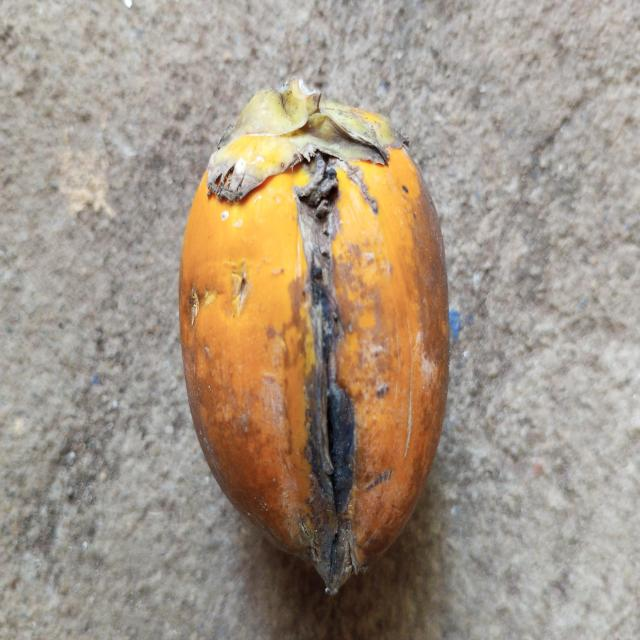damaged: (177, 79, 453, 599)
